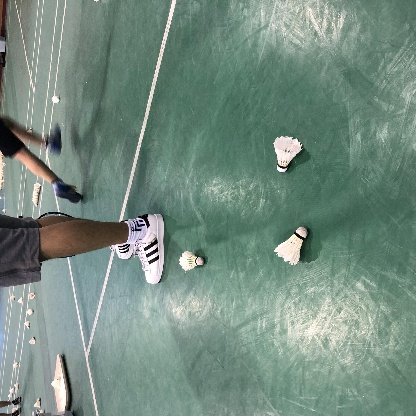ball_single: (274, 227, 308, 266), (273, 136, 303, 173), (179, 251, 204, 271), (32, 183, 41, 207), (34, 398, 40, 408), (52, 96, 60, 103), (29, 337, 36, 344), (24, 321, 30, 329), (29, 293, 35, 299), (27, 309, 33, 315), (17, 297, 23, 303), (10, 296, 15, 300)
